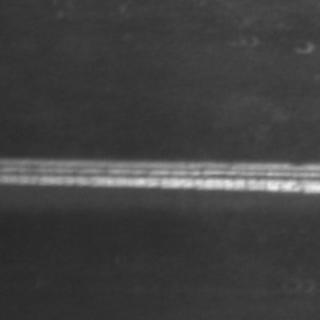scratches: (0, 143, 316, 197)
